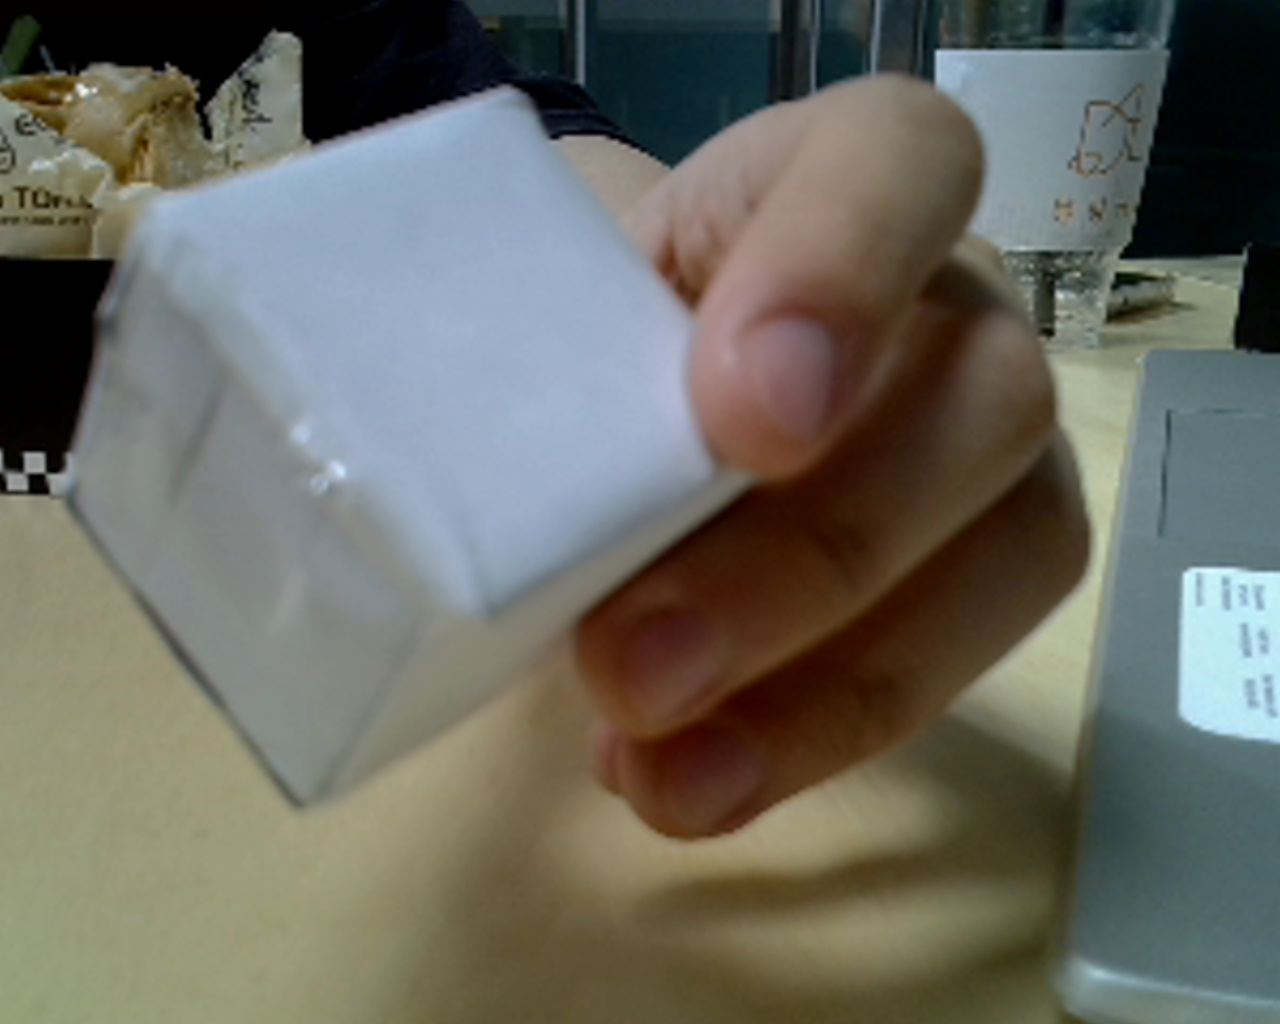whitebox: (59, 74, 836, 828)
